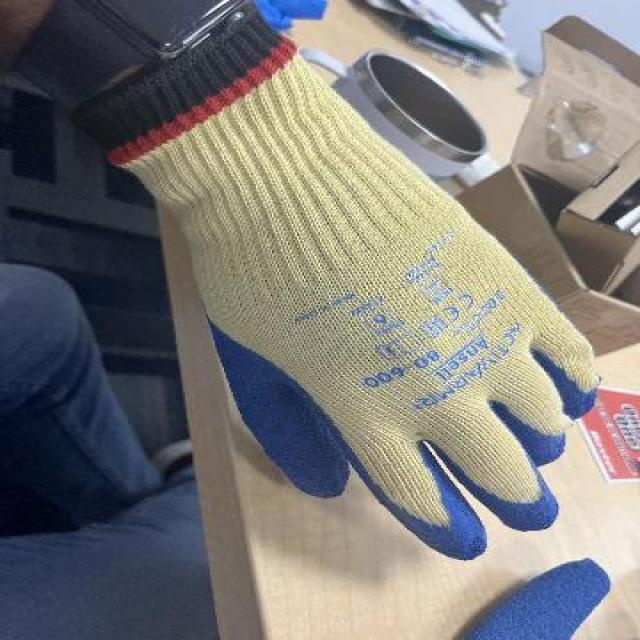Guantes: (70, 3, 602, 561)
